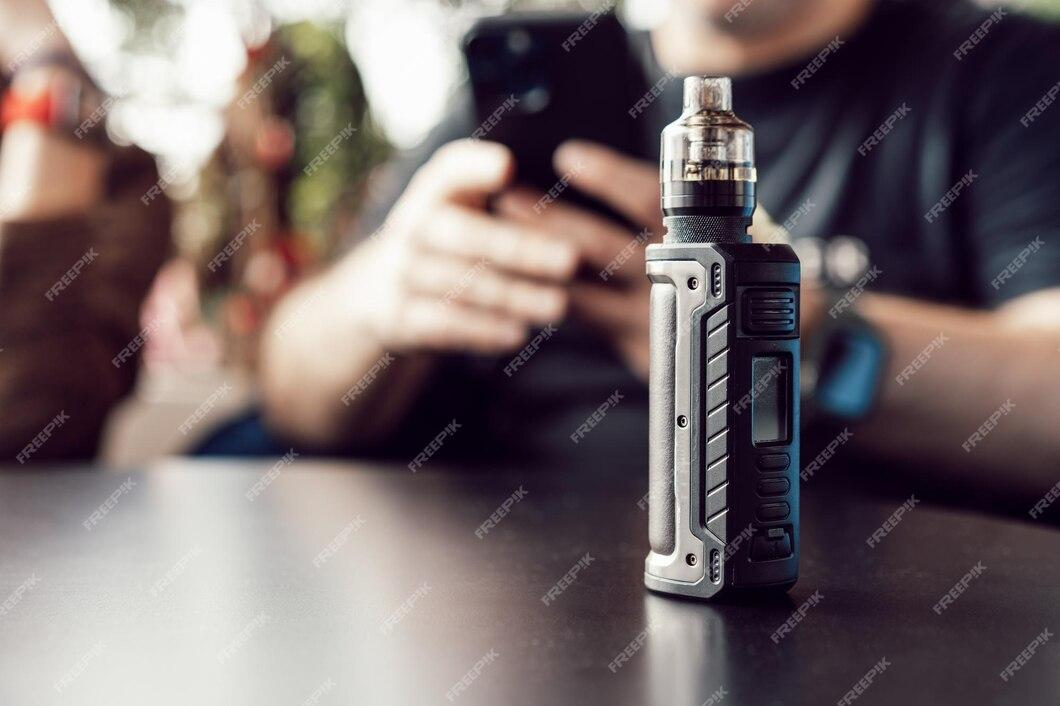Vape: (644, 76, 800, 599)
